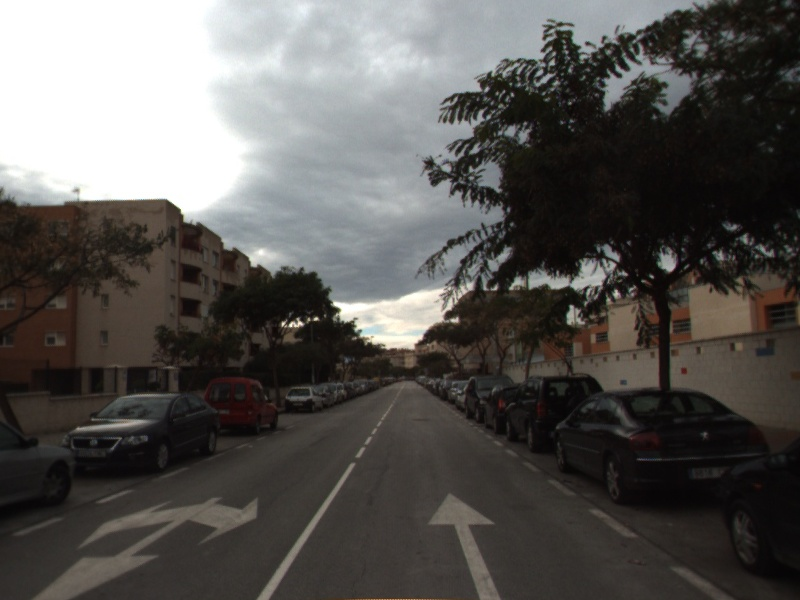STRAIGHT: (425, 489, 502, 600)
